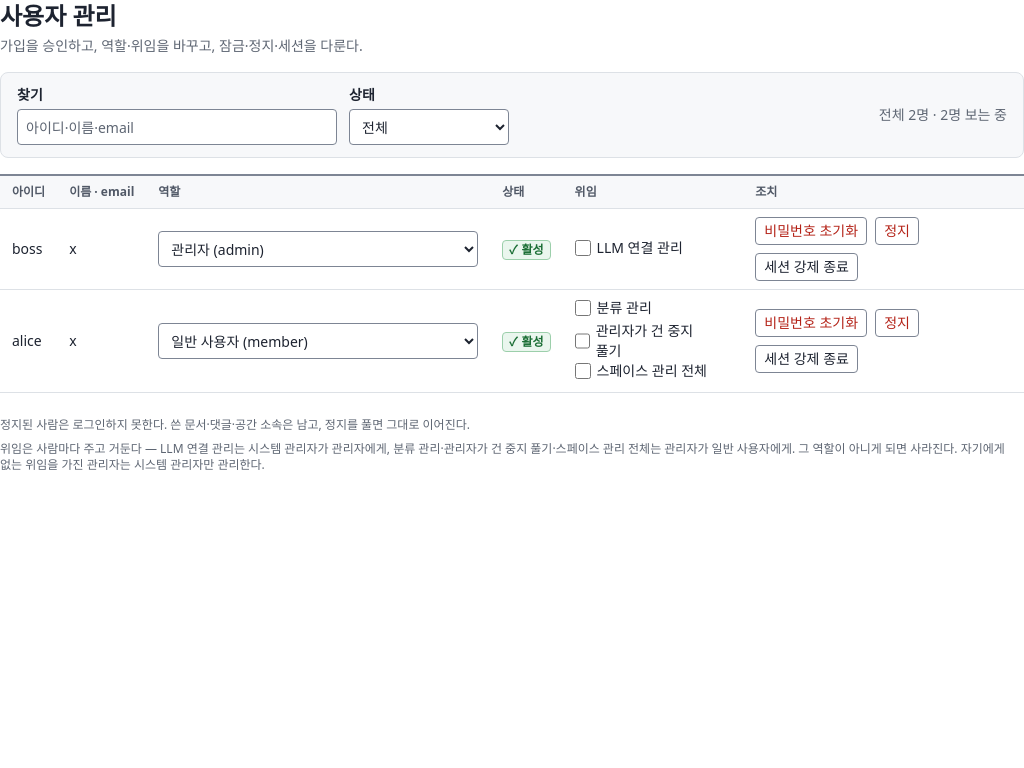
Test case: AdminUsersPage — 화면 체계 (P17 J.6 관리 다섯) › **비밀번호 초기화는 한 번 묻는다** — 세션이 끊기고 임시 값이 한 번 보인다는 것과 본인 확인. 그만두면 보내지 않는다 (병합 전 검토 22)
Expected: the text "alice" is shown, [0,290,57,392]
Click the button "비밀번호 초기화" in the row of "alice": click(811, 323) [755,309,867,337]
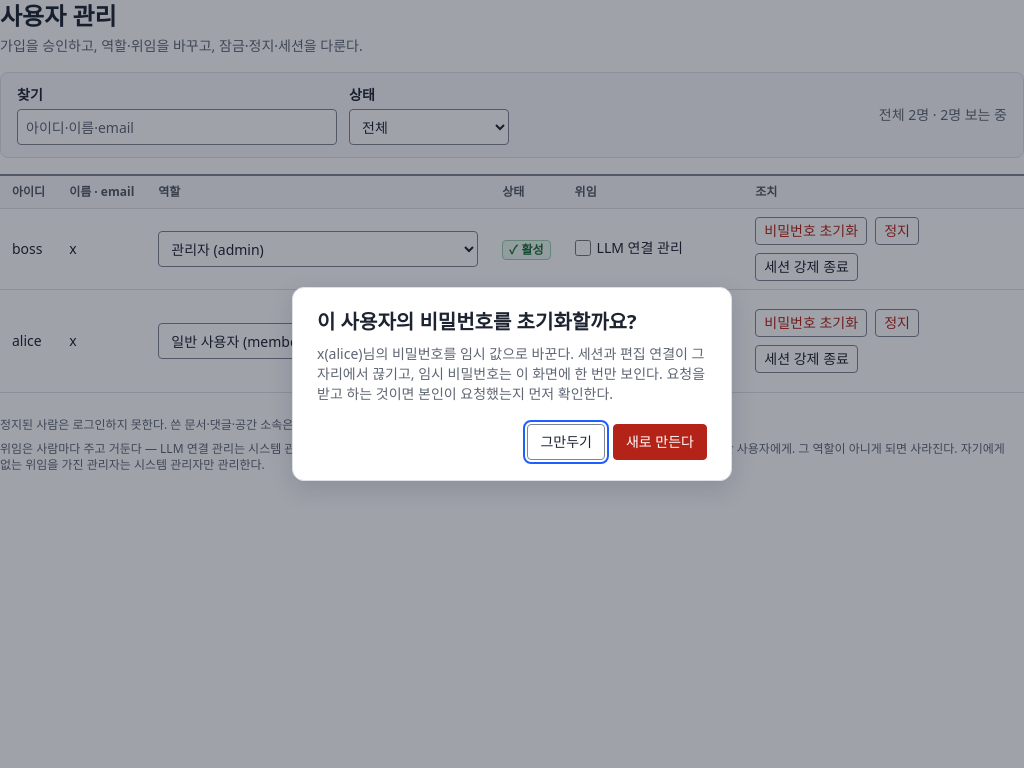
Result: the dialog "이 사용자의 비밀번호를 초기화할까요?" shows "x(alice)님의 비밀번호를 임시 값으로 바꾼다. 세션과 편집 연결이 그 자리에서 끊기고, 임시 비밀번호는 이 화면에 한 번만 보인다." at [317,344,705,403]
Result: the dialog "이 사용자의 비밀번호를 초기화할까요?" shows "본인이 요청했는지 먼저 확인한다" at [317,344,705,403]
Click the button "그만두기": click(566, 442) [527,424,605,460]
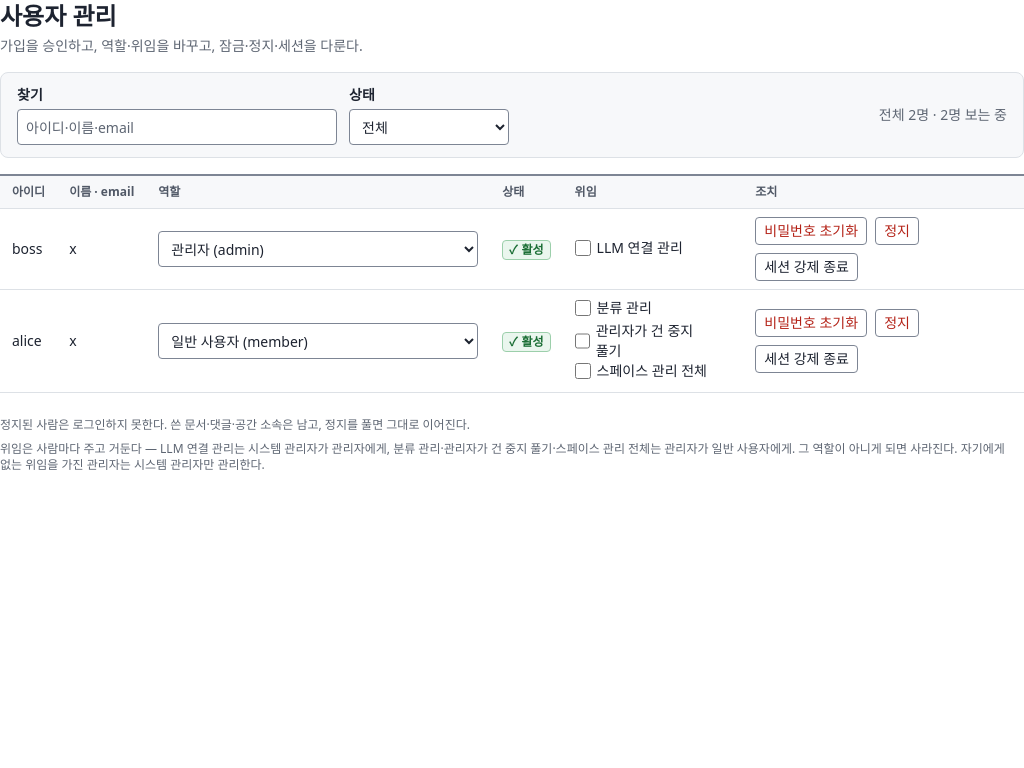
Result: the dialog is gone
Result: the text "임시 비밀번호" is gone
